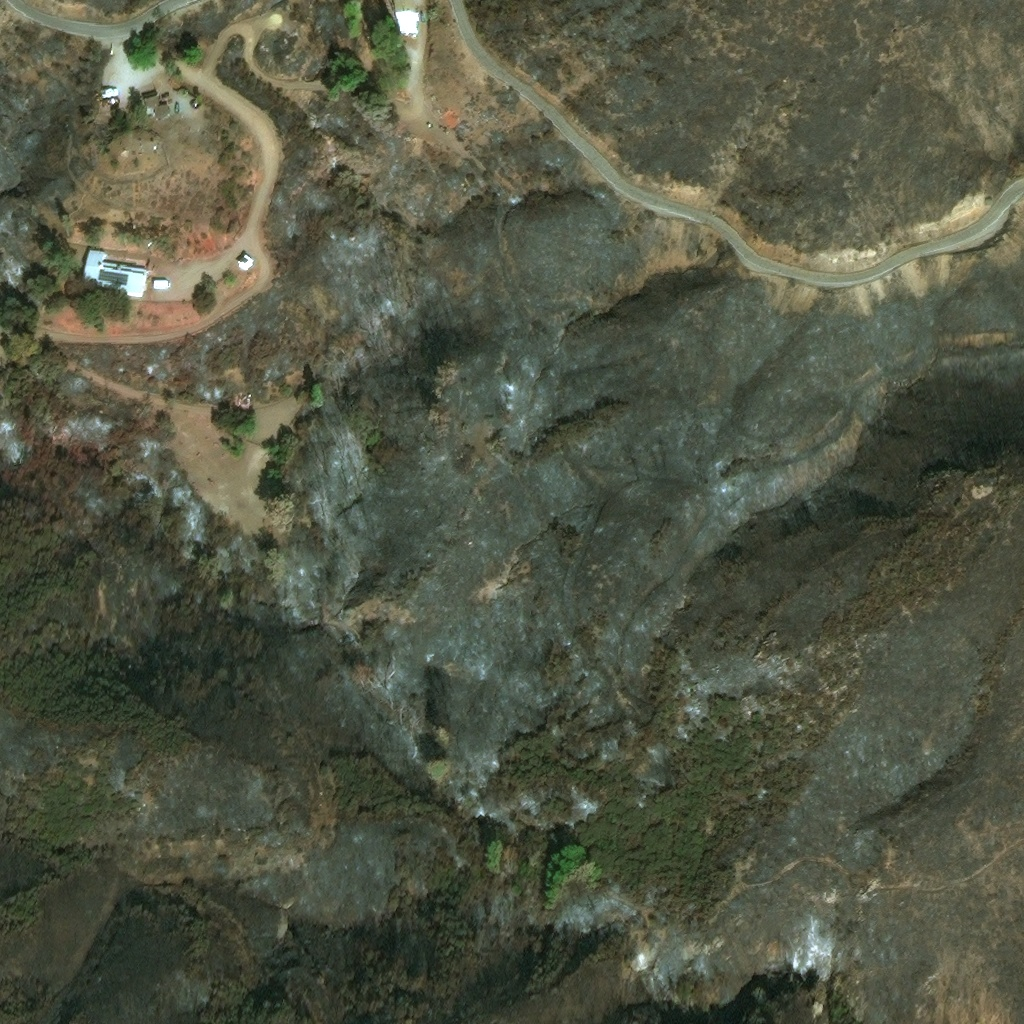0 no-damage: (80, 248, 149, 298), (394, 0, 420, 34), (145, 98, 173, 122), (236, 254, 255, 273)
